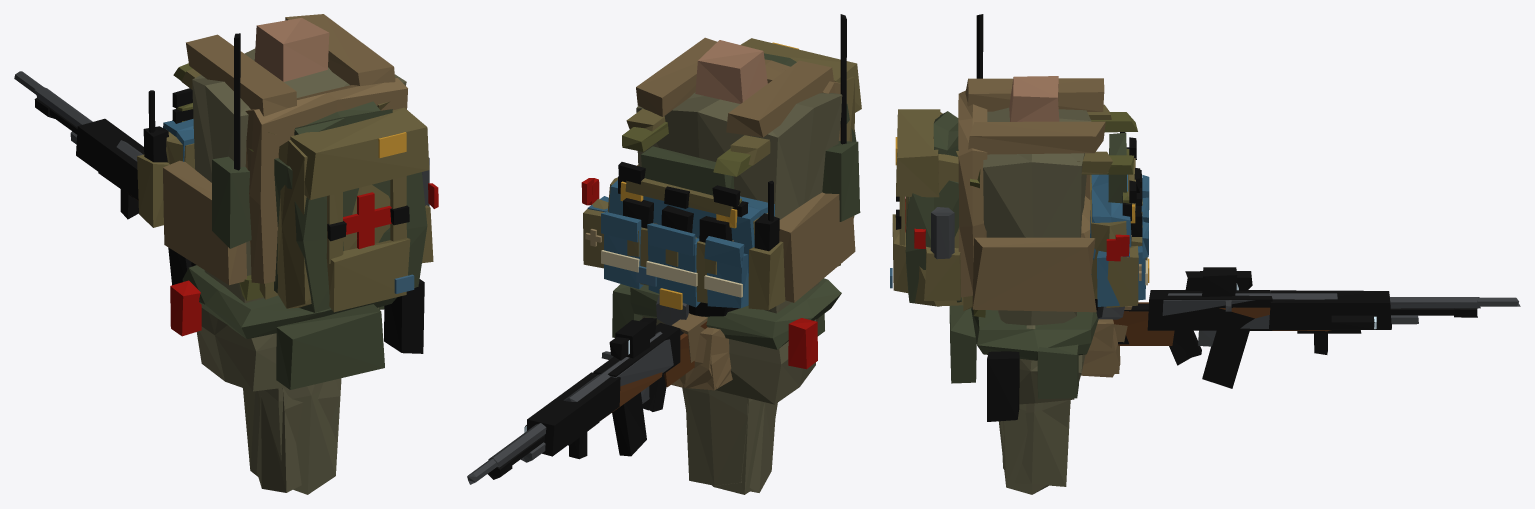
File: soldier.glb
The picture shows the model from 3 angles, left to right: view 1: azimuth 30°, elevation 25°; view 2: azimuth 150°, elevation 25°; view 3: azimuth 270°, elevation 25°; orthographic projection. The views are drawn at different scales.
Visible parts, largest first — view 1: Gear_Carrier, Gear_Pack, Gear_Belt, Body_Chest, Gear_MedBag, Body_Thigh_L, Gear_Rifle, Body_Pelvis, Gear_RigChest, Body_Thigh_R, Gear_RigMarket, Gear_Hydration (+2 smaller); view 2: Gear_Carrier, Body_Chest, Gear_RigMarket, Gear_RigChest, Gear_Rifle, Gear_Belt, Body_Thigh_R, Body_Pelvis, Gear_BoltRifle, Gear_Shotgun, Gear_Pack, Body_Thigh_L (+3 smaller); view 3: Gear_Carrier, Gear_Rifle, Body_Chest, Gear_Belt, Gear_Pack, Gear_RigMarket, Gear_RigChest, Gear_BoltRifle, Body_Thigh_R, Gear_Shotgun, Gear_MedBag, Body_Thigh_L (+3 smaller).
Boxes of the visible parts, box(x1,y1,x2,y2) form: Gear_Carrier: box(163, 14, 407, 285); Gear_Pack: box(277, 107, 438, 312); Gear_Belt: box(170, 265, 424, 389); Body_Chest: box(192, 18, 406, 303); Gear_MedBag: box(274, 158, 427, 312); Body_Thigh_L: box(243, 379, 341, 494); Gear_Rifle: box(34, 97, 191, 285); Body_Pelvis: box(196, 307, 378, 391); Gear_RigChest: box(137, 68, 389, 299); Body_Thigh_R: box(256, 378, 340, 492); Gear_RigMarket: box(163, 63, 263, 301); Gear_Hydration: box(294, 101, 392, 135); Gear_Carrier: box(636, 14, 860, 302); Body_Chest: box(636, 40, 842, 313); Gear_RigMarket: box(587, 122, 840, 309); Gear_RigChest: box(581, 108, 785, 310); Gear_Rifle: box(488, 313, 707, 479); Gear_Belt: box(612, 278, 841, 369); Body_Thigh_R: box(685, 388, 775, 492); Body_Pelvis: box(642, 316, 818, 404); Gear_BoltRifle: box(467, 317, 707, 484); Gear_Shotgun: box(488, 339, 673, 467); Gear_Pack: box(741, 38, 861, 218); Body_Thigh_L: box(682, 387, 777, 494); Gear_Carrier: box(958, 14, 1131, 312); Gear_Rifle: box(1114, 267, 1477, 388); Body_Chest: box(983, 76, 1091, 325); Gear_Belt: box(949, 305, 1098, 421); Gear_Pack: box(890, 109, 963, 306); Gear_RigMarket: box(970, 112, 1149, 317); Gear_RigChest: box(956, 104, 1147, 311); Gear_BoltRifle: box(1113, 271, 1520, 346); Body_Thigh_R: box(1000, 402, 1070, 486); Gear_Shotgun: box(1118, 291, 1480, 358); Gear_MedBag: box(905, 180, 961, 306); Body_Thigh_L: box(998, 400, 1070, 494).
Size of the model in its own units: 0.456 by 1.05 by 1.37.
